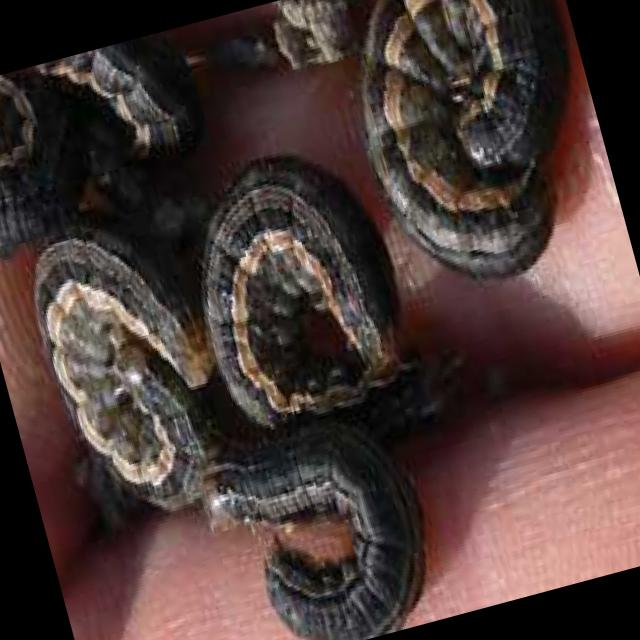armyworm: (319, 1, 620, 338), (7, 192, 253, 552), (163, 129, 422, 455), (180, 405, 456, 640), (56, 31, 223, 224), (1, 62, 107, 274)
